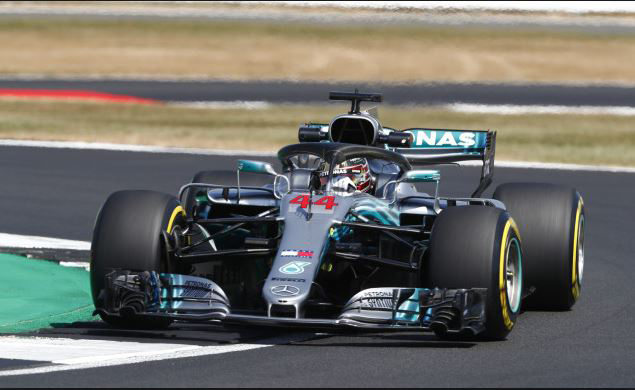F1 Car: (88, 86, 592, 346)
